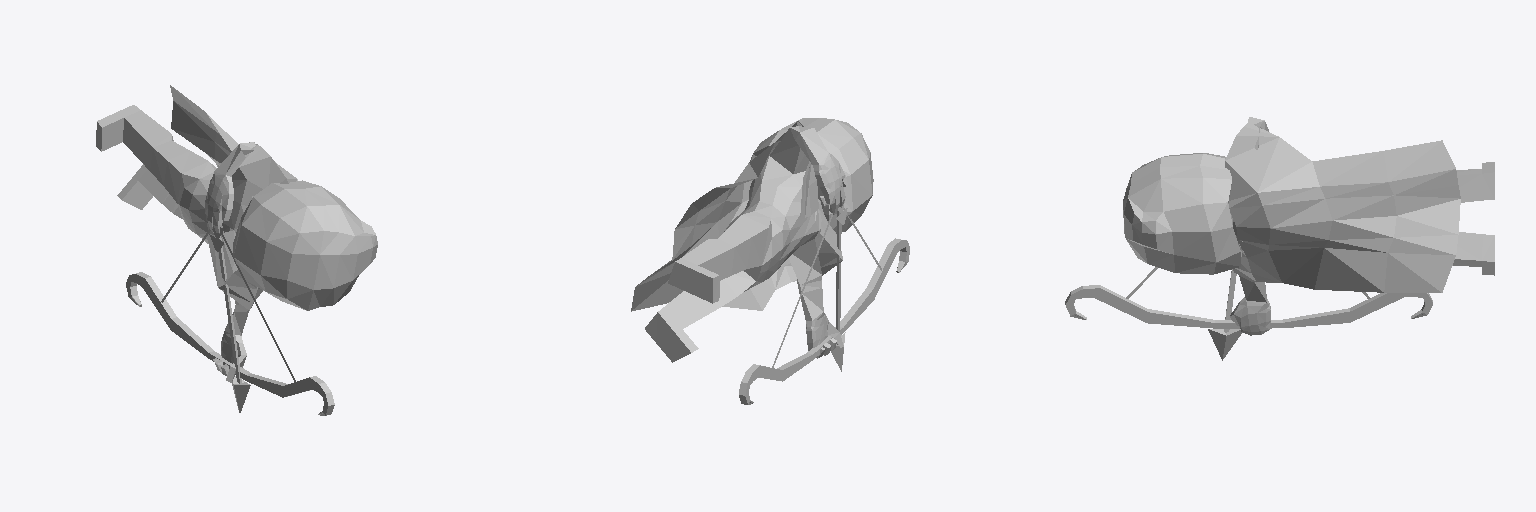
File: ranger_attack.obj
3 views of the same model, side by side, from view 1: azimuth 30°, elevation 25°; view 2: azimuth 150°, elevation 25°; view 3: azimuth 270°, elevation 25° (orthographic).
Visible parts, largest first — view 1: male.004_Plane.012; view 2: male.004_Plane.012; view 3: male.004_Plane.012.
Boxes of the visible parts, x1=… form: male.004_Plane.012: x1=96, y1=85, x2=377, y2=415; male.004_Plane.012: x1=631, y1=118, x2=909, y2=404; male.004_Plane.012: x1=1065, y1=117, x2=1494, y2=360.
Size of the model in its own units: 2.86 by 5.92 by 9.09.